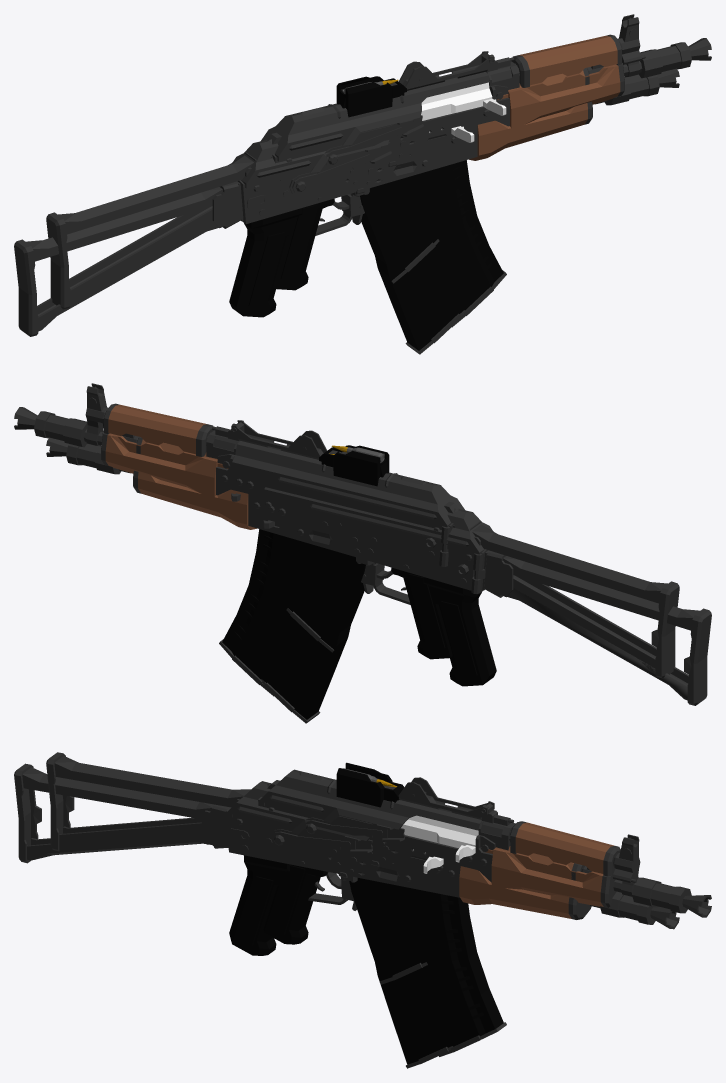
The model's file is AKS-74U Misc.fbx.
The picture shows the model from 3 angles, top to bottom: view 1: azimuth 30°, elevation 25°; view 2: azimuth 150°, elevation 25°; view 3: azimuth 330°, elevation 25°; orthographic projection.
Parts seen in each view (by area): view 1: AKS-74U World, Cube, Cylinder.005, 5.45x39 mag.001, AKS-74U Mag Empty, Cylinder, Cylinder.001; view 2: AKS-74U World, Cube, Cylinder.005, 5.45x39 mag.001, AKS-74U Mag Empty, Cylinder.001; view 3: AKS-74U World, Cube, Cylinder.005, 5.45x39 mag.001, AKS-74U Mag Empty, Cylinder, Cylinder.001.
Part boxes in pixels (x1,y1,x2,y2): AKS-74U World: (46, 14, 711, 327); Cube: (229, 64, 607, 317); Cylinder.005: (14, 181, 243, 336); 5.45x39 mag.001: (374, 177, 464, 354); AKS-74U Mag Empty: (336, 76, 439, 283); Cylinder: (289, 142, 392, 195); Cylinder.001: (604, 68, 679, 105); AKS-74U World: (14, 383, 679, 696); Cube: (118, 433, 496, 686); Cylinder.005: (474, 550, 711, 705); 5.45x39 mag.001: (261, 543, 351, 723); AKS-74U Mag Empty: (286, 445, 389, 652); Cylinder.001: (46, 437, 121, 474); AKS-74U World: (46, 752, 711, 1056); Cube: (226, 781, 600, 955); Cylinder.005: (14, 763, 229, 863); 5.45x39 mag.001: (367, 883, 452, 1068); AKS-74U Mag Empty: (336, 762, 427, 984); Cylinder: (271, 829, 372, 852); Cylinder.001: (600, 891, 679, 929).
Size of the model in its own units: 69.32 by 27.43 by 6.35.
